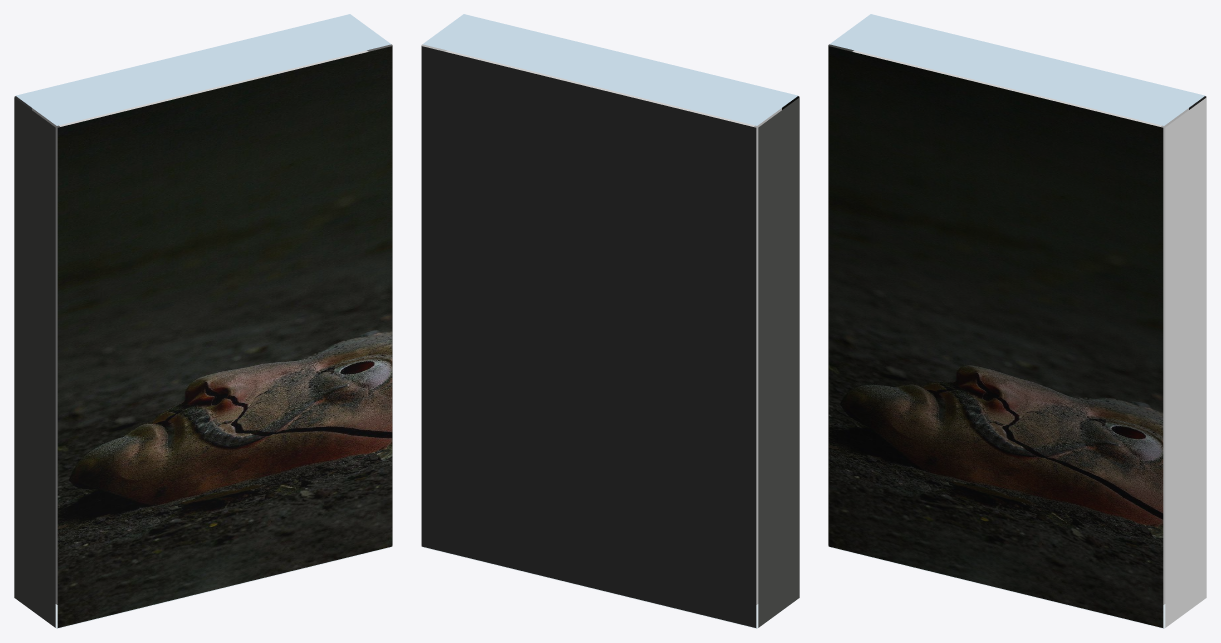
The model's file is livre_casadepapel.glb.
The picture shows the model from 3 angles, left to right: view 1: azimuth 30°, elevation 25°; view 2: azimuth 150°, elevation 25°; view 3: azimuth 330°, elevation 25°; orthographic projection.
Parts seen in each view (by area): view 1: Livre_Couverture_Avant, Livre_Dos, Tranche_Haut, Livre_Pages, Tranche_Droite; view 2: Livre_Couverture_Arriere, Livre_Dos, Tranche_Haut, Livre_Pages, Tranche_Droite; view 3: Livre_Couverture_Avant, Tranche_Droite, Tranche_Haut, Livre_Pages, Livre_Dos.
Part boxes in pixels (<box>): Livre_Couverture_Avant: <box>57,46,392,627</box>; Livre_Dos: <box>14,97,55,627</box>; Tranche_Haut: <box>16,14,390,125</box>; Livre_Pages: <box>32,50,368,604</box>; Tranche_Droite: <box>367,44,392,545</box>; Livre_Couverture_Arriere: <box>421,46,756,627</box>; Livre_Dos: <box>758,97,799,627</box>; Tranche_Haut: <box>423,14,797,125</box>; Livre_Pages: <box>445,50,781,604</box>; Tranche_Droite: <box>421,44,446,545</box>; Livre_Couverture_Avant: <box>828,46,1163,627</box>; Tranche_Droite: <box>1165,97,1206,627</box>; Tranche_Haut: <box>830,14,1204,125</box>; Livre_Pages: <box>852,50,1188,604</box>; Livre_Dos: <box>828,44,853,545</box>.
Size of the model in its own units: 1.41 by 2.01 by 0.31.
Materials: 7 (1 with a texture image).
